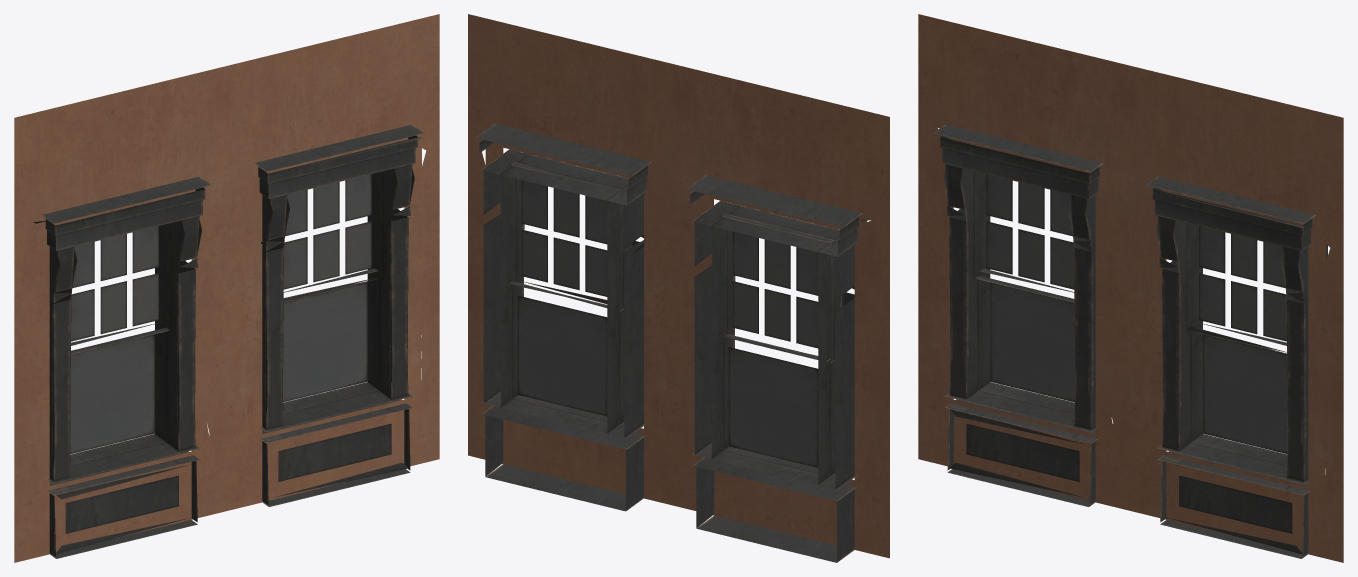
File: bay_window_b_lo.gltf
3 renders of one model, left to right at view 1: azimuth 30°, elevation 25°; view 2: azimuth 150°, elevation 25°; view 3: azimuth 330°, elevation 25°, orthographic.
Visible parts, largest first — view 1: bay_window_b_lo; view 2: bay_window_b_lo; view 3: bay_window_b_lo.
Part boxes in pixels (box(x1,y1,x2,y2)): bay_window_b_lo: box(14, 14, 439, 562); bay_window_b_lo: box(468, 14, 889, 562); bay_window_b_lo: box(918, 14, 1343, 562).
Bounding box in the file's own units: 3 × 3 × 0.3893.
3 materials, 3 textured.
